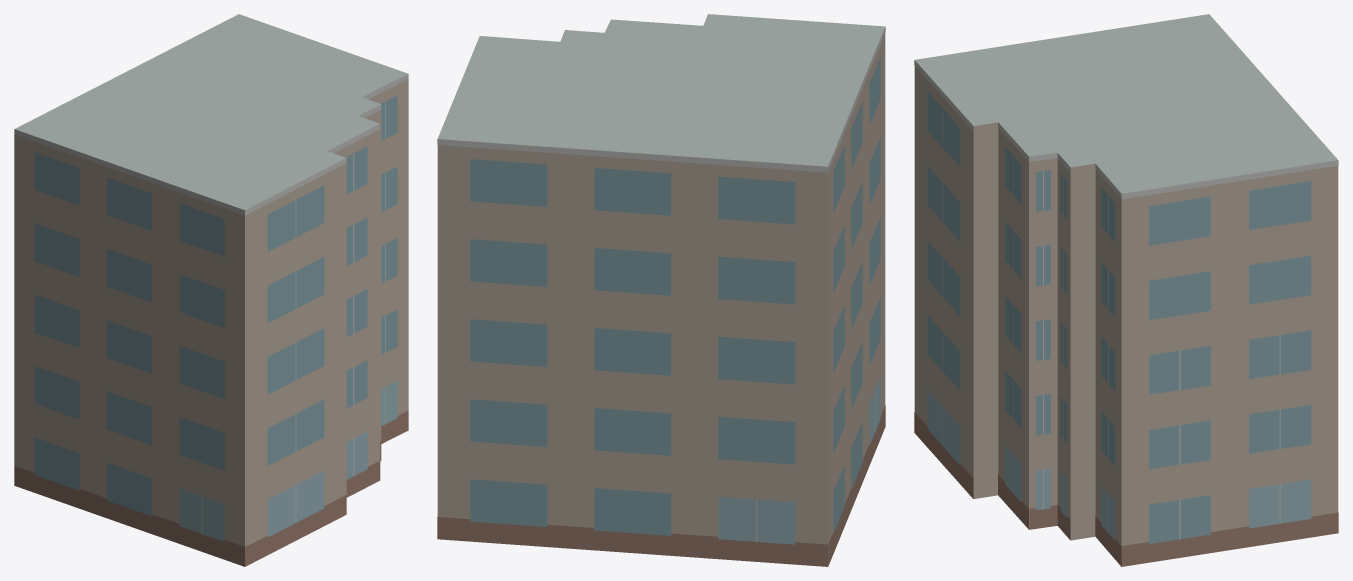
Rendered from survey-upis-32863634.glb.
3 renders of one model, left to right at view 1: azimuth 30°, elevation 25°; view 2: azimuth 150°, elevation 25°; view 3: azimuth 270°, elevation 25°, orthographic. The views are drawn at different scales.
Parts seen in each view (by area): view 1: survey-upis-32863634.tmp; view 2: survey-upis-32863634.tmp; view 3: survey-upis-32863634.tmp.
Boxes of the visible parts, x1,y1,x2,y2 form: survey-upis-32863634.tmp: [14, 14, 408, 566]; survey-upis-32863634.tmp: [437, 14, 885, 566]; survey-upis-32863634.tmp: [914, 14, 1338, 566].
Size of the model in its own units: 16.97 by 16.4 by 16.9.
